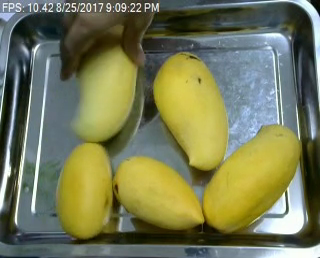Mango: (200, 121, 300, 235), (153, 52, 233, 172), (109, 154, 208, 233), (68, 49, 138, 141), (53, 140, 116, 239)
